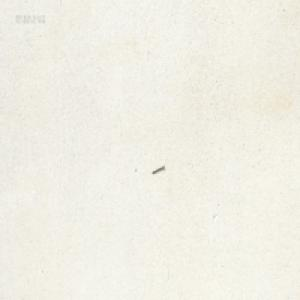Bolt: (151, 164, 164, 174)
